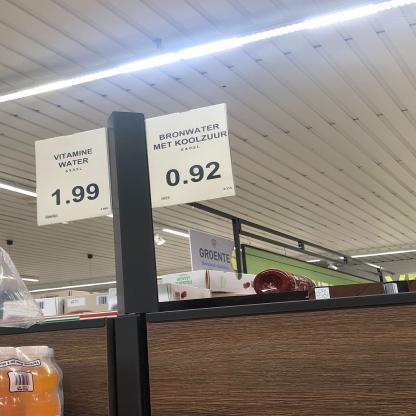prtg: (147, 104, 237, 209), (36, 128, 113, 228)
